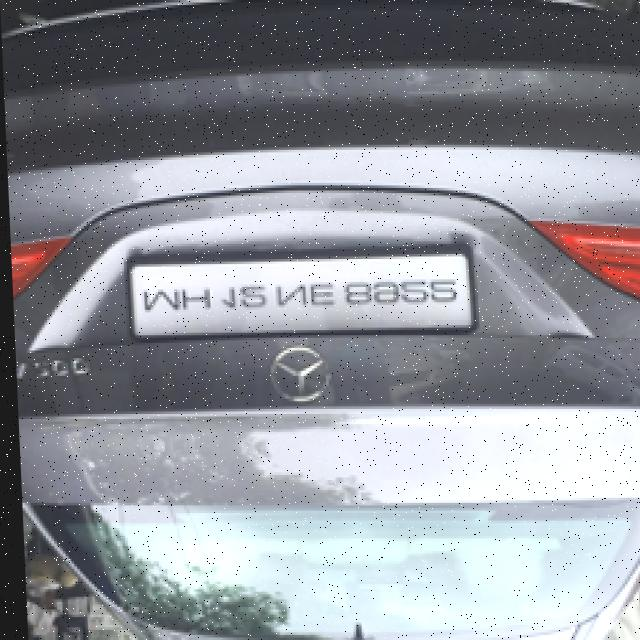plate: (127, 242, 476, 342)
